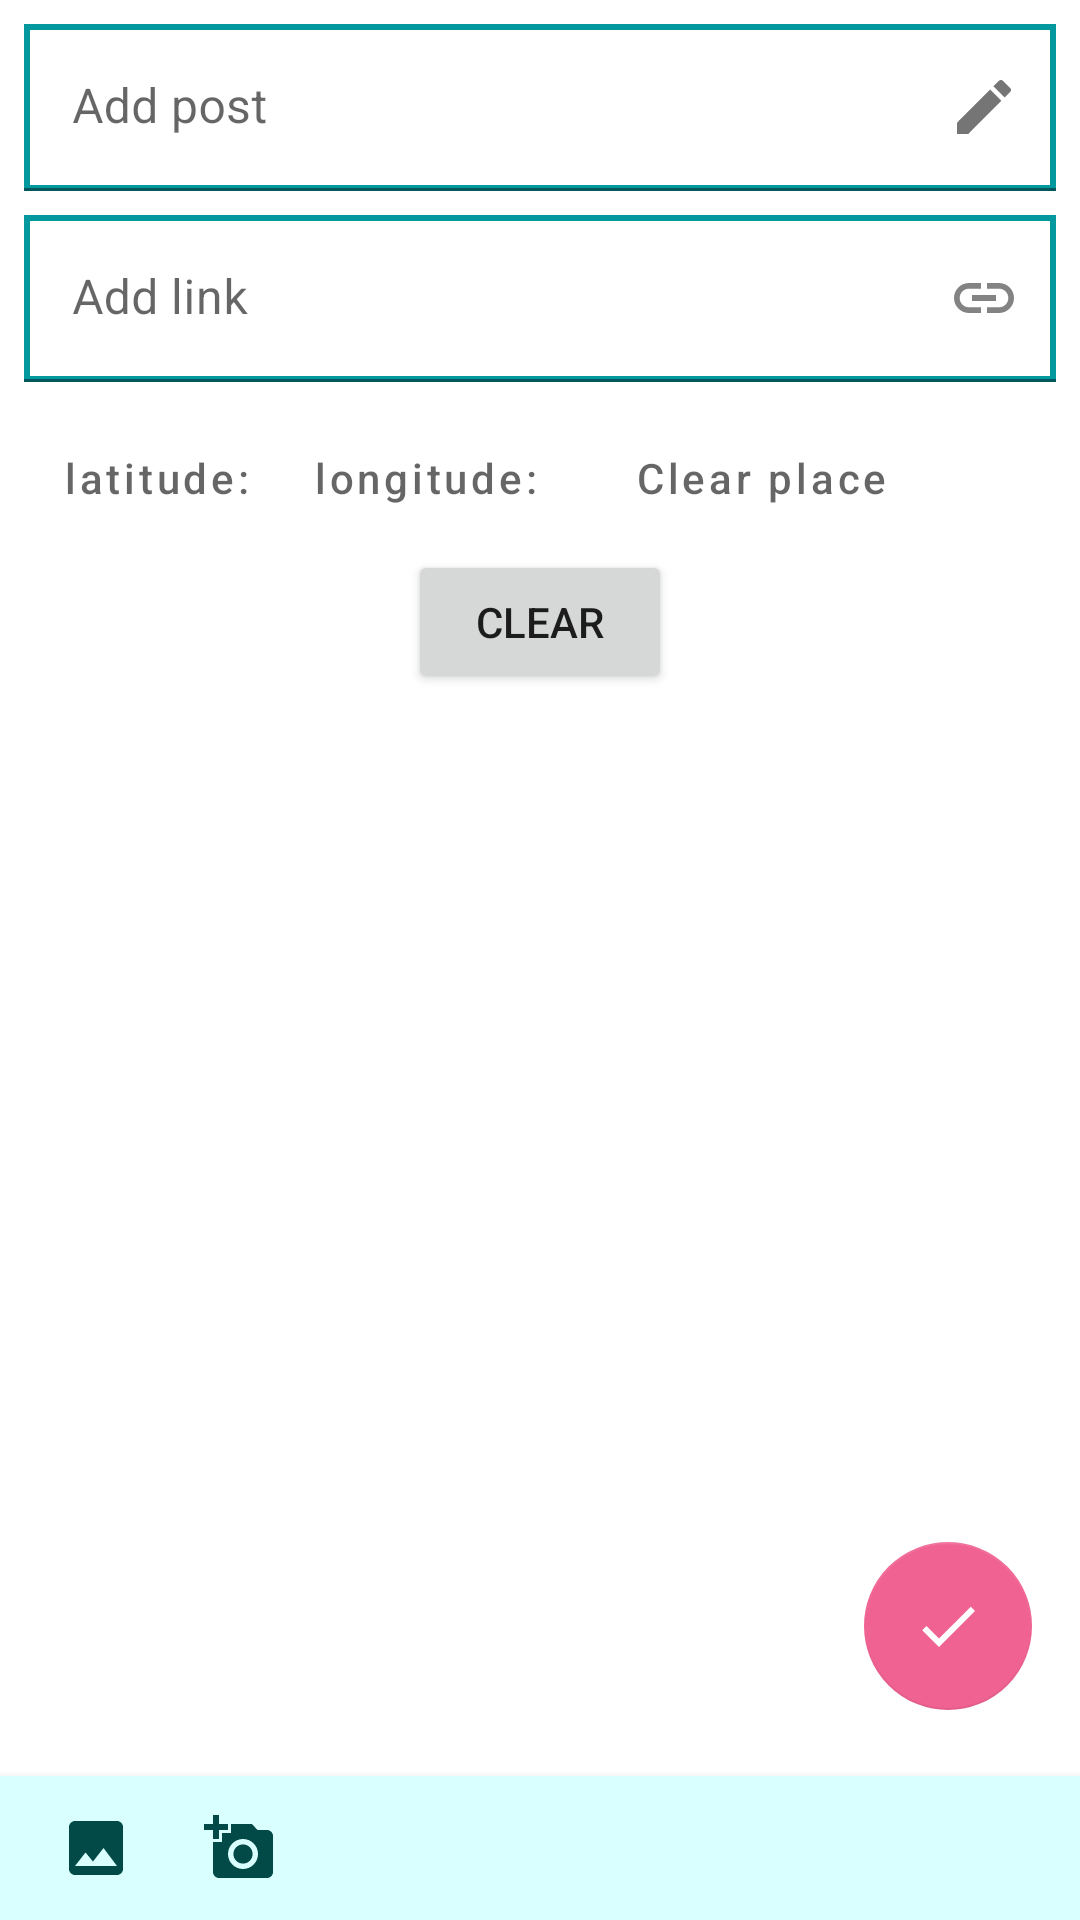

Named icons in this screenshot (1080 x 1920) and their bounding boxes, (x1, y1, x2, y2):
check: (864, 1542, 1032, 1710)
Gallery: (69, 1821, 123, 1875)
